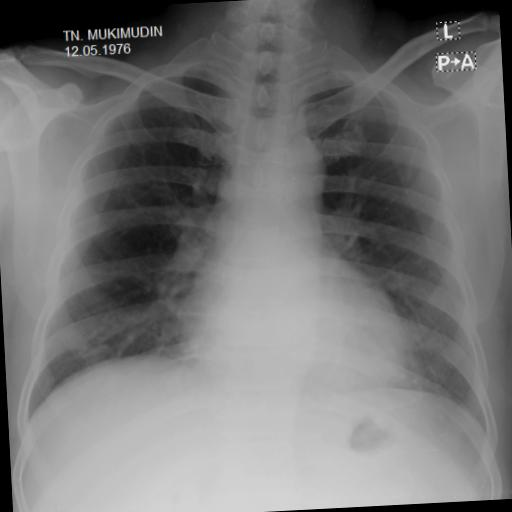kardiomegali: (0, 20, 496, 458)
